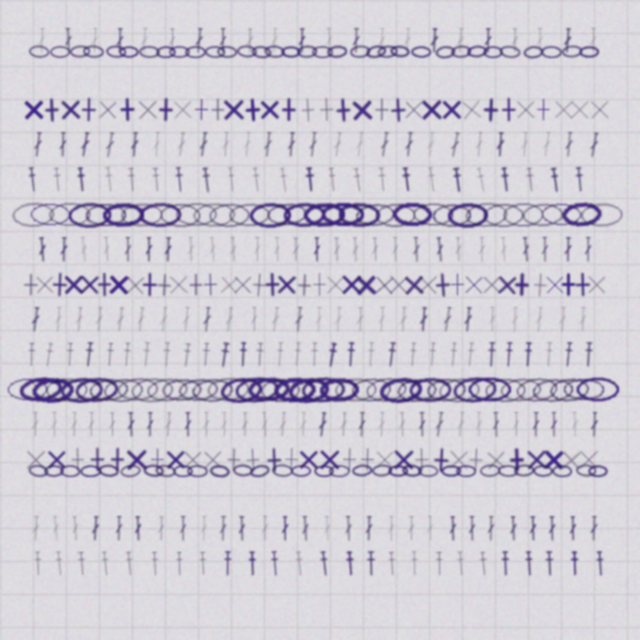chain: (378, 375, 423, 405), (234, 375, 280, 404), (452, 375, 498, 404), (219, 375, 263, 405), (287, 375, 331, 405), (18, 375, 63, 404), (514, 375, 559, 404), (364, 375, 408, 404), (547, 375, 591, 404), (74, 376, 119, 404), (145, 376, 190, 404), (437, 376, 482, 404), (530, 376, 575, 404), (60, 376, 104, 404), (87, 376, 131, 404), (130, 376, 174, 404), (176, 376, 220, 404), (190, 376, 234, 404), (499, 376, 543, 404), (464, 201, 509, 228), (301, 376, 346, 403), (354, 201, 397, 229), (31, 376, 74, 404), (102, 376, 145, 404), (395, 376, 438, 404), (11, 201, 55, 228), (206, 376, 250, 403), (265, 201, 308, 228), (116, 376, 159, 403), (247, 376, 290, 403), (273, 376, 316, 403), (350, 376, 393, 403), (425, 376, 468, 403), (68, 202, 112, 228), (192, 202, 236, 228), (521, 202, 565, 228), (561, 201, 603, 228), (120, 202, 163, 228), (139, 202, 182, 228), (159, 202, 202, 228), (208, 202, 251, 228), (228, 202, 271, 228), (283, 202, 326, 228), (338, 202, 381, 228), (482, 202, 525, 228), (580, 202, 623, 228), (45, 377, 88, 403), (160, 377, 203, 403), (259, 377, 302, 403), (334, 377, 377, 403), (409, 377, 452, 403), (484, 377, 527, 403), (102, 202, 144, 228), (249, 202, 291, 228), (303, 202, 345, 228), (374, 202, 416, 228), (431, 202, 473, 228), (447, 202, 489, 228), (29, 202, 72, 227), (48, 202, 91, 227), (84, 202, 127, 227), (175, 202, 218, 227), (321, 202, 364, 227), (540, 202, 583, 227), (6, 377, 49, 402), (468, 377, 511, 402), (562, 377, 605, 402), (576, 377, 619, 402), (319, 377, 360, 403), (412, 202, 454, 227), (502, 202, 544, 227), (392, 202, 433, 227), (249, 463, 271, 479), (365, 44, 387, 59), (499, 45, 521, 59), (251, 45, 272, 59), (435, 45, 456, 59), (523, 45, 544, 59), (28, 464, 49, 478), (120, 464, 141, 478), (155, 464, 176, 478), (209, 464, 230, 478), (83, 45, 104, 58), (264, 45, 285, 58), (377, 45, 398, 58), (98, 464, 119, 477), (143, 464, 164, 477), (272, 464, 293, 477), (29, 45, 49, 58), (70, 45, 90, 58), (106, 45, 126, 58), (237, 45, 257, 58), (297, 45, 317, 58), (327, 45, 347, 58), (350, 45, 370, 58), (390, 45, 410, 58), (451, 45, 471, 58), (467, 45, 487, 58), (562, 45, 582, 58), (233, 464, 253, 477), (352, 464, 372, 477), (372, 464, 392, 477), (402, 464, 422, 477), (480, 464, 500, 477), (514, 464, 534, 477), (576, 464, 596, 477), (139, 46, 160, 58), (169, 46, 190, 58), (185, 46, 206, 58), (312, 46, 333, 58), (541, 46, 562, 58), (80, 465, 101, 477), (187, 465, 208, 477), (329, 465, 350, 477), (50, 46, 70, 58), (119, 46, 139, 58), (156, 46, 176, 58), (205, 46, 225, 58), (217, 46, 237, 58), (281, 46, 301, 58), (411, 46, 431, 58), (483, 46, 503, 58), (579, 46, 599, 58), (44, 465, 64, 477), (60, 465, 80, 477), (173, 465, 193, 477), (291, 465, 311, 477), (314, 465, 334, 477), (388, 465, 408, 477), (418, 465, 438, 477), (441, 465, 461, 477), (456, 465, 476, 477), (498, 465, 518, 477), (533, 465, 553, 477), (552, 465, 572, 477), (588, 465, 608, 477)
double: (104, 132, 116, 158), (449, 132, 461, 158), (588, 132, 600, 158), (79, 132, 91, 157), (176, 132, 187, 157), (198, 132, 209, 157), (332, 132, 343, 157), (354, 132, 365, 157), (379, 132, 390, 157), (541, 132, 552, 157), (30, 307, 41, 332), (115, 307, 126, 332), (224, 307, 235, 332), (270, 307, 281, 332), (442, 307, 453, 332), (317, 412, 328, 437), (434, 412, 445, 437), (194, 28, 204, 53), (33, 132, 43, 157), (242, 132, 252, 157), (263, 132, 273, 157), (308, 132, 318, 157), (404, 132, 414, 157), (426, 132, 436, 157), (474, 132, 484, 157), (564, 132, 574, 157), (79, 237, 89, 262), (435, 237, 445, 262), (521, 237, 531, 262), (53, 307, 63, 332), (74, 307, 84, 332), (94, 307, 104, 332), (136, 307, 146, 332), (159, 307, 169, 332), (181, 307, 191, 332), (202, 307, 212, 332), (294, 307, 304, 332), (463, 307, 473, 332), (534, 307, 544, 332), (163, 412, 173, 437), (278, 412, 288, 437), (456, 412, 466, 437), (51, 516, 61, 541), (37, 28, 46, 53), (64, 28, 73, 53), (90, 28, 99, 53), (140, 28, 149, 53), (270, 28, 279, 53), (403, 28, 412, 53), (430, 28, 439, 53), (456, 28, 465, 53), (563, 28, 572, 53), (130, 132, 139, 157), (152, 132, 161, 157), (221, 132, 230, 157), (287, 132, 296, 157), (496, 132, 505, 157), (520, 132, 529, 157), (38, 237, 47, 262), (102, 237, 111, 262), (208, 237, 217, 262), (229, 237, 238, 262), (351, 237, 360, 262), (412, 237, 421, 262), (454, 237, 463, 262), (499, 237, 508, 262), (334, 307, 343, 332), (377, 307, 386, 332), (399, 307, 408, 332), (419, 307, 428, 332), (558, 307, 567, 332), (260, 412, 269, 437), (339, 412, 348, 437), (377, 412, 386, 437), (590, 412, 599, 437), (31, 516, 40, 541), (71, 516, 80, 541), (91, 516, 100, 541), (301, 516, 310, 541), (323, 516, 332, 541), (344, 516, 353, 541), (509, 516, 518, 541), (116, 28, 124, 53), (168, 28, 176, 53), (219, 28, 227, 53), (246, 28, 254, 53), (298, 28, 306, 53), (325, 28, 333, 53), (352, 28, 360, 53), (378, 28, 386, 53), (484, 28, 492, 53), (511, 28, 519, 53), (536, 28, 544, 53), (589, 28, 597, 53), (59, 132, 67, 157), (60, 237, 68, 262), (124, 237, 132, 262), (145, 237, 153, 262), (164, 237, 172, 262), (187, 237, 195, 262), (253, 237, 261, 262), (273, 237, 281, 262), (292, 237, 300, 262), (313, 237, 321, 262), (333, 237, 341, 262), (371, 237, 379, 262), (391, 237, 399, 262), (478, 237, 486, 262), (541, 237, 549, 262), (564, 237, 572, 262), (584, 237, 592, 262), (250, 307, 258, 332), (315, 307, 323, 332), (356, 307, 364, 332), (488, 307, 496, 332), (511, 307, 519, 332), (579, 307, 587, 332), (31, 412, 39, 437), (50, 412, 58, 437), (70, 412, 78, 437), (87, 412, 95, 437), (108, 412, 116, 437), (127, 412, 135, 437), (146, 412, 154, 437), (184, 412, 192, 437), (202, 412, 210, 437), (220, 412, 228, 437), (241, 412, 249, 437), (299, 412, 307, 437), (358, 412, 366, 437), (398, 412, 406, 437), (418, 412, 426, 437), (475, 412, 483, 437), (492, 412, 500, 437), (512, 412, 520, 437), (532, 412, 540, 437), (550, 412, 558, 437), (571, 412, 579, 437), (115, 516, 123, 541), (134, 516, 142, 541), (157, 516, 165, 541), (179, 516, 187, 541), (200, 516, 208, 541), (219, 516, 227, 541), (238, 516, 246, 541), (261, 516, 269, 541), (281, 516, 289, 541), (365, 516, 373, 541), (387, 516, 395, 541), (407, 516, 415, 541), (426, 516, 434, 541), (449, 516, 457, 541), (468, 516, 476, 541), (487, 516, 495, 541), (529, 516, 537, 541), (548, 516, 556, 541), (569, 516, 577, 541), (590, 516, 598, 541)
half_double: (200, 167, 213, 193), (351, 167, 364, 193), (451, 167, 464, 193), (475, 167, 488, 193), (180, 342, 193, 368), (218, 342, 231, 368), (278, 167, 290, 193), (549, 167, 561, 193), (43, 342, 55, 368), (326, 342, 338, 368), (103, 167, 115, 192), (150, 167, 162, 192), (304, 167, 316, 192), (376, 167, 388, 192), (426, 167, 438, 192), (524, 167, 536, 192), (83, 342, 95, 367), (140, 342, 152, 367), (27, 167, 38, 192), (52, 167, 63, 192), (76, 167, 87, 192), (126, 167, 137, 192), (174, 167, 185, 192), (226, 167, 237, 192), (251, 167, 262, 192), (327, 167, 338, 192), (401, 167, 412, 192), (500, 167, 511, 192), (574, 167, 585, 192), (161, 342, 172, 367), (254, 342, 265, 367), (292, 342, 303, 367), (386, 342, 397, 367), (427, 342, 438, 367), (448, 342, 459, 367), (465, 342, 476, 367), (486, 342, 497, 367), (563, 342, 574, 367), (583, 342, 594, 367), (54, 551, 65, 576), (76, 551, 87, 576), (100, 551, 111, 576), (124, 551, 135, 576), (294, 551, 305, 576), (319, 551, 330, 576), (455, 551, 466, 576), (478, 551, 489, 576), (544, 551, 555, 576), (65, 342, 75, 367), (105, 342, 115, 367), (122, 342, 132, 367), (201, 342, 211, 367), (238, 342, 248, 367), (275, 342, 285, 367), (346, 342, 356, 367), (366, 342, 376, 367), (408, 342, 418, 367), (504, 342, 514, 367), (523, 342, 533, 367), (544, 342, 554, 367), (33, 551, 43, 576), (150, 551, 160, 576), (198, 551, 208, 576), (270, 551, 280, 576), (345, 551, 355, 576), (366, 551, 376, 576), (387, 551, 397, 576), (434, 551, 444, 576), (524, 551, 534, 576), (595, 551, 605, 576), (27, 342, 36, 367), (310, 342, 319, 367), (175, 551, 184, 576), (223, 551, 232, 576), (248, 551, 257, 576), (410, 551, 419, 576), (501, 551, 510, 576), (570, 551, 579, 576)
single: (458, 96, 485, 123), (39, 97, 65, 123), (240, 97, 266, 123), (295, 97, 321, 123), (330, 97, 356, 123), (349, 97, 375, 123), (385, 97, 411, 123), (478, 97, 504, 123), (122, 272, 148, 298), (151, 272, 177, 298), (216, 272, 242, 298), (246, 272, 272, 298), (291, 272, 317, 298), (353, 272, 379, 298), (371, 272, 397, 298), (401, 272, 427, 298), (430, 272, 456, 298), (494, 272, 520, 298), (527, 272, 553, 298), (240, 447, 266, 473), (261, 447, 287, 473), (428, 447, 454, 473), (463, 447, 489, 473), (483, 447, 509, 473), (558, 447, 584, 473), (21, 97, 46, 122), (58, 97, 83, 122), (76, 97, 101, 122), (95, 97, 120, 122), (115, 97, 140, 122), (135, 97, 160, 122), (153, 97, 178, 122), (170, 97, 195, 122), (189, 97, 214, 122), (205, 97, 230, 122), (221, 97, 246, 122), (257, 97, 282, 122), (276, 97, 301, 122), (314, 97, 339, 122), (369, 97, 394, 122), (401, 97, 426, 122), (419, 97, 444, 122), (439, 97, 464, 122), (496, 97, 521, 122), (513, 97, 538, 122), (531, 97, 556, 122), (551, 97, 576, 122), (567, 97, 592, 122), (587, 97, 612, 122), (18, 272, 43, 297), (32, 272, 57, 297), (47, 272, 72, 297), (61, 272, 86, 297), (77, 272, 102, 297), (92, 272, 117, 297), (106, 272, 131, 297), (137, 272, 162, 297), (166, 272, 191, 297), (183, 272, 208, 297), (198, 272, 223, 297), (230, 272, 255, 297), (260, 272, 285, 297), (274, 272, 299, 297), (307, 272, 332, 297), (323, 272, 348, 297), (339, 272, 364, 297), (386, 272, 411, 297), (415, 272, 440, 297), (445, 272, 470, 297), (461, 272, 486, 297), (479, 272, 504, 297), (509, 272, 534, 297), (542, 272, 567, 297), (556, 272, 581, 297), (570, 272, 595, 297), (584, 272, 609, 297), (23, 447, 48, 472), (44, 447, 69, 472), (65, 447, 90, 472), (85, 447, 110, 472), (105, 447, 130, 472), (124, 447, 149, 472), (145, 447, 170, 472), (163, 447, 188, 472), (180, 447, 205, 472), (200, 447, 225, 472), (221, 447, 246, 472), (279, 447, 304, 472), (296, 447, 321, 472), (317, 447, 342, 472), (337, 447, 362, 472), (355, 447, 380, 472), (372, 447, 397, 472), (391, 447, 416, 472), (409, 447, 434, 472), (446, 447, 471, 472), (504, 447, 529, 472), (524, 447, 549, 472), (541, 447, 566, 472), (576, 447, 601, 472)
